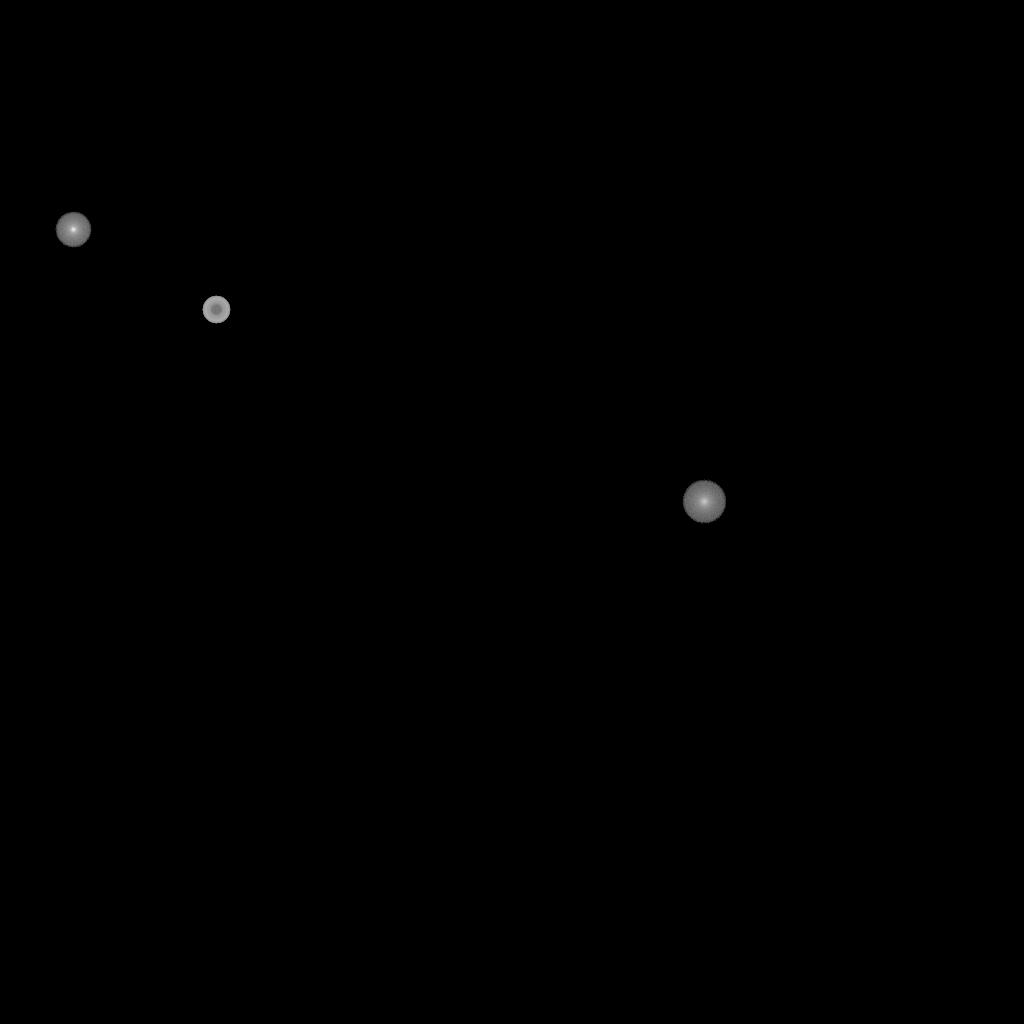depth:-50: (202, 296, 230, 324)
depth:0: (55, 212, 91, 248)
depth:10: (682, 480, 726, 524)
